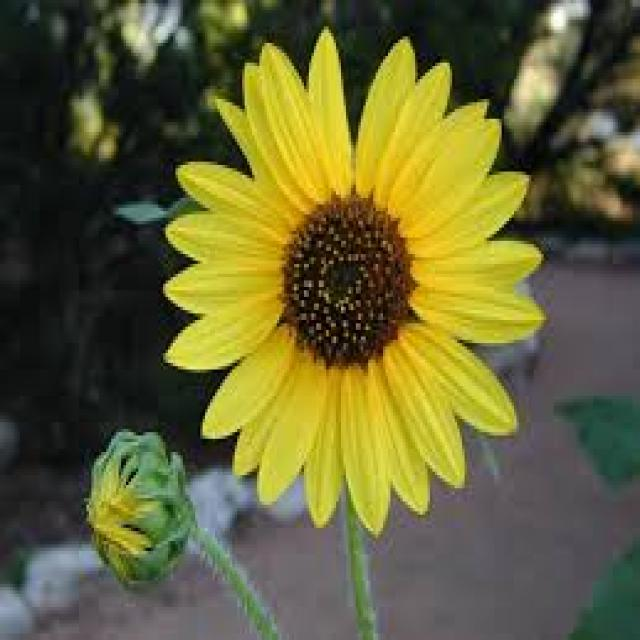sunflower: (153, 17, 560, 547)
